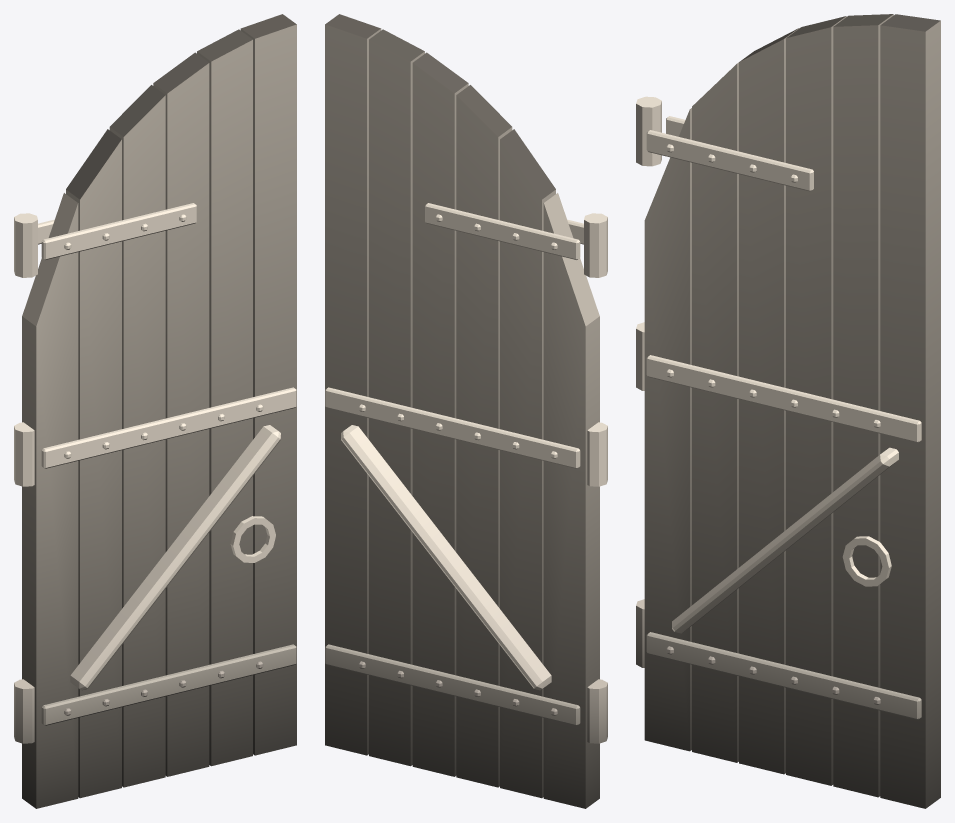
Rendered from SM_VK_Gatehouse_GateLeaf.fbx.
The picture shows the model from 3 angles, left to right: view 1: azimuth 30°, elevation 25°; view 2: azimuth 150°, elevation 25°; view 3: azimuth 330°, elevation 25°; orthographic projection. The views are drawn at different scales.
Parts seen in each view (by area): view 1: SM_VK_Gatehouse_GateLeaf.001; view 2: SM_VK_Gatehouse_GateLeaf.001; view 3: SM_VK_Gatehouse_GateLeaf.001.
Part boxes in pixels (left/top/right/bottom): SM_VK_Gatehouse_GateLeaf.001: left=14, top=14, right=296, bottom=808; SM_VK_Gatehouse_GateLeaf.001: left=325, top=14, right=607, bottom=808; SM_VK_Gatehouse_GateLeaf.001: left=636, top=14, right=940, bottom=808.
Size of the model in its own units: 1.79 by 4.49 by 0.42.
